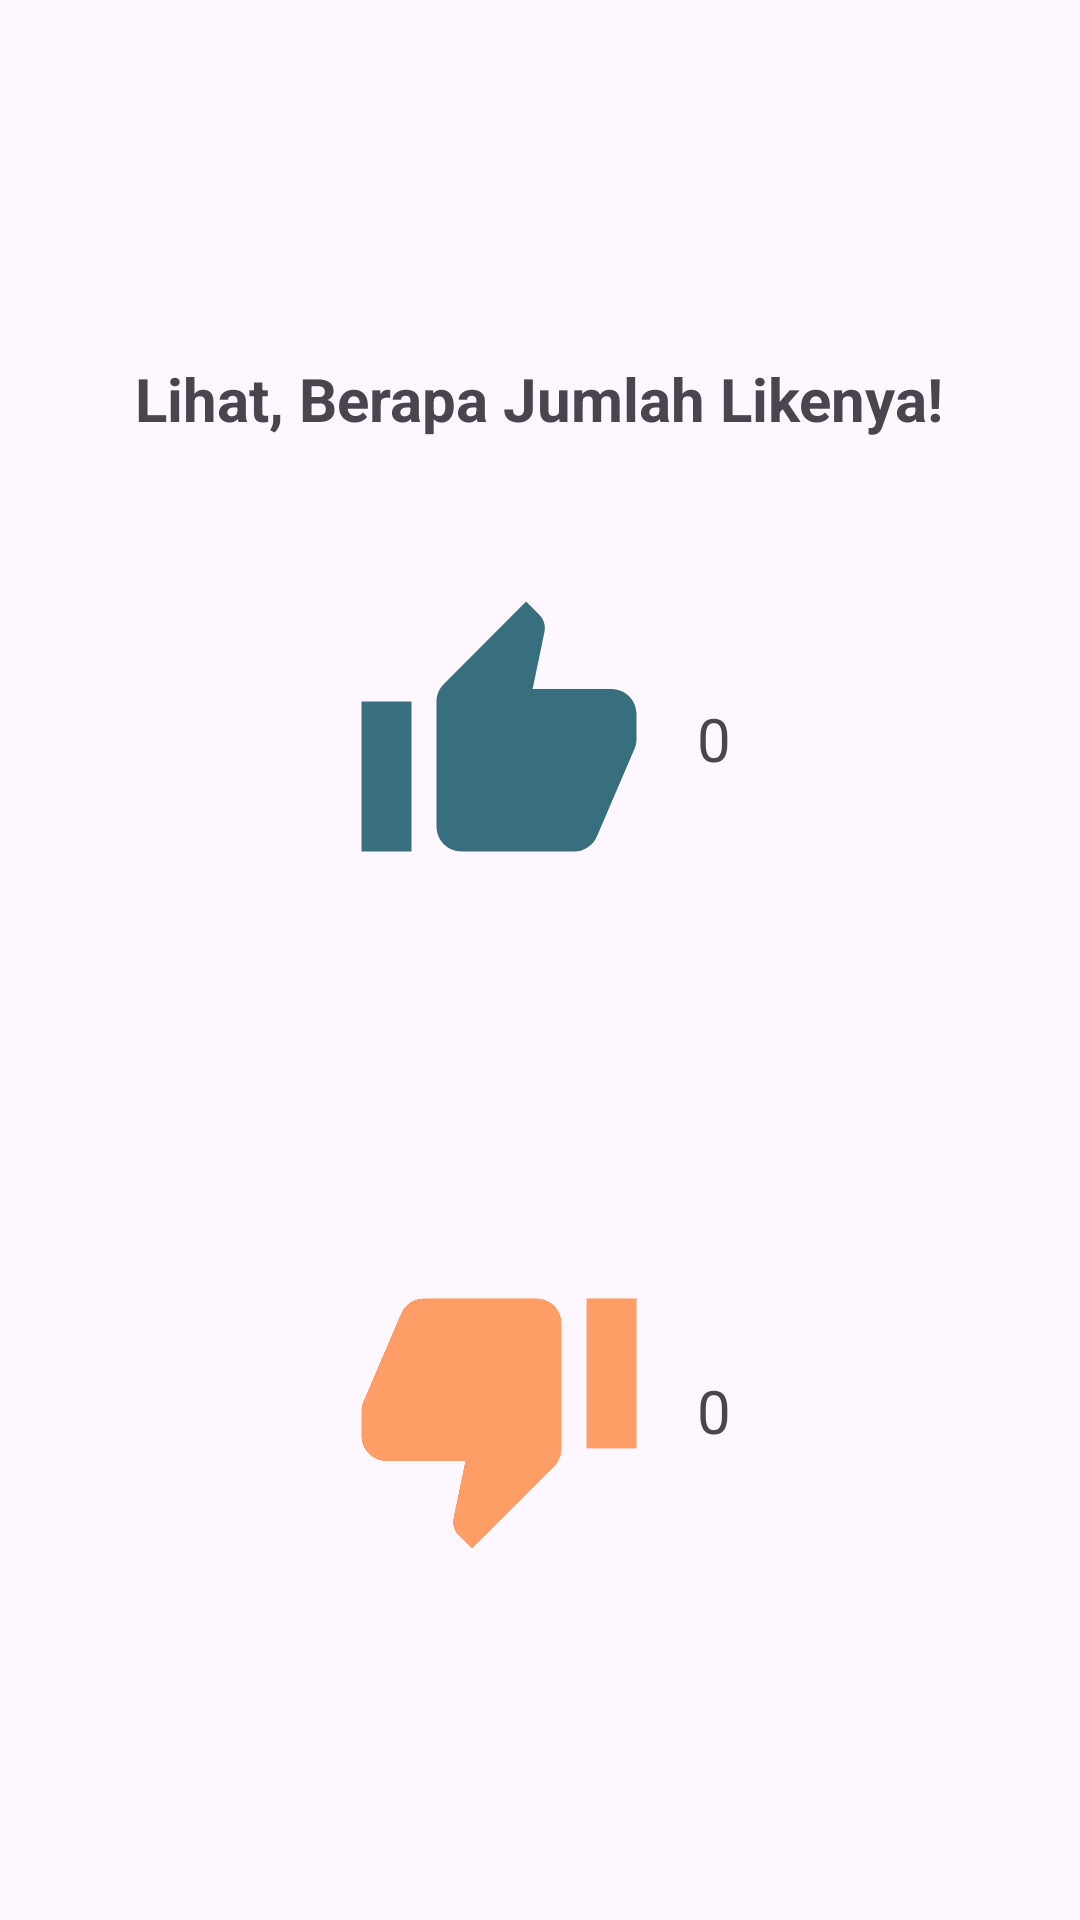

Named icons in this screenshot (1080w x 1920h) and their bounding boxes, (x1, y1, x2, y2):
Dislike: (361, 1298, 637, 1548)
